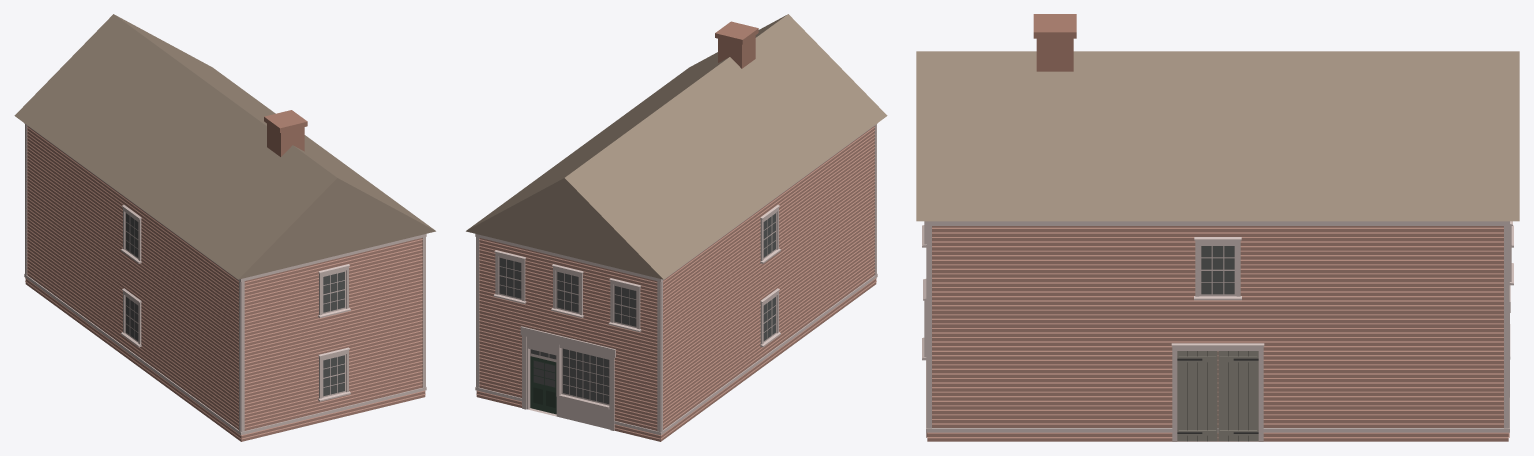
The model's file is recon_1835_core_c3_040__inferred_1835.glb.
3 renders of one model, left to right at view 1: azimuth 30°, elevation 25°; view 2: azimuth 150°, elevation 25°; view 3: azimuth 270°, elevation 25°, orthographic. The views are drawn at different scales.
Visible parts, largest first — view 1: recon_1835_core_c3_040__inferred_1835; view 2: recon_1835_core_c3_040__inferred_1835; view 3: recon_1835_core_c3_040__inferred_1835.
Part boxes in pixels (left/top/right/bottom): recon_1835_core_c3_040__inferred_1835: left=14, top=14, right=435, bottom=441; recon_1835_core_c3_040__inferred_1835: left=466, top=14, right=887, bottom=441; recon_1835_core_c3_040__inferred_1835: left=916, top=14, right=1519, bottom=441.
Size of the model in its own units: 7.01 by 8.97 by 13.7.
